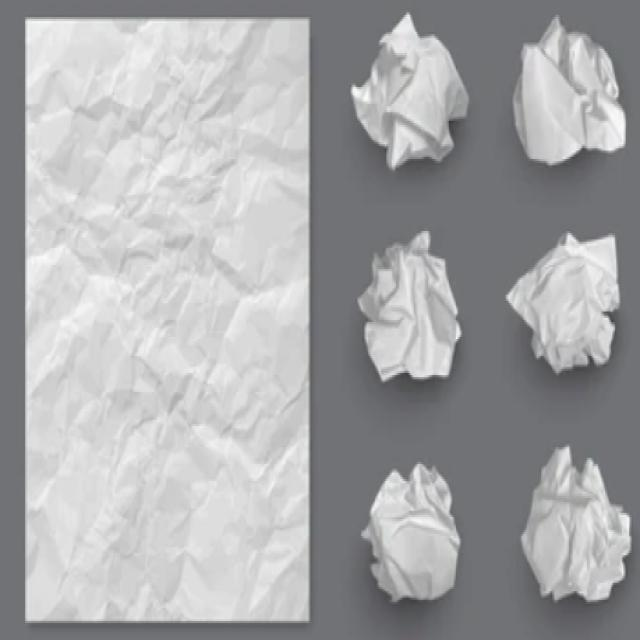KertasBekas: (23, 22, 309, 629), (350, 10, 468, 170), (518, 443, 632, 604), (510, 13, 626, 165), (505, 229, 620, 375), (356, 226, 462, 384), (360, 460, 460, 604)
